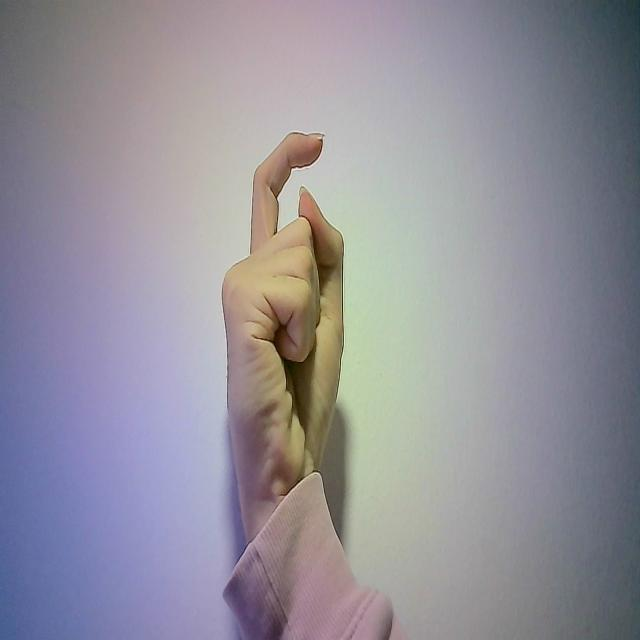X: (207, 122, 366, 484)
